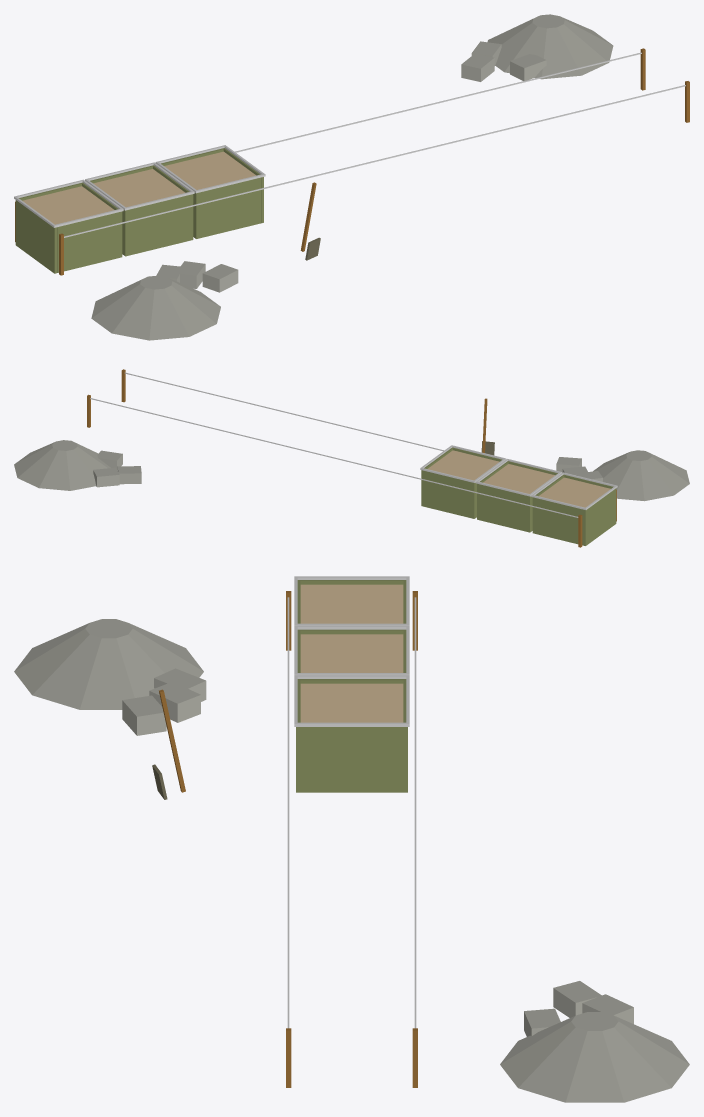
Rendered from SM_ObraReconstruccion_v3_10m_LOD0.fbx.
3 renders of one model, top to bottom at view 1: azimuth 30°, elevation 25°; view 2: azimuth 150°, elevation 25°; view 3: azimuth 270°, elevation 25°, orthographic. The views are drawn at different scales.
Visible parts, largest first — view 1: SM_obra_curso_v47_LOD0; view 2: SM_obra_curso_v47_LOD0; view 3: SM_obra_curso_v47_LOD0.
Part boxes in pixels (x1=…): SM_obra_curso_v47_LOD0: x1=14, y1=14, x2=689, y2=340; SM_obra_curso_v47_LOD0: x1=14, y1=369, x2=689, y2=547; SM_obra_curso_v47_LOD0: x1=14, y1=576, x2=689, y2=1102.
Bounding box in the file's own units: 10.51 × 1.11 × 6.4.
